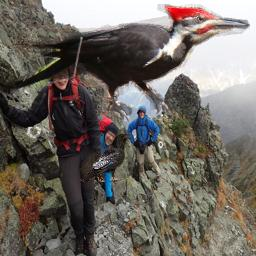Crow: (80, 133, 131, 182)
Woodpecker: (0, 4, 250, 126)
